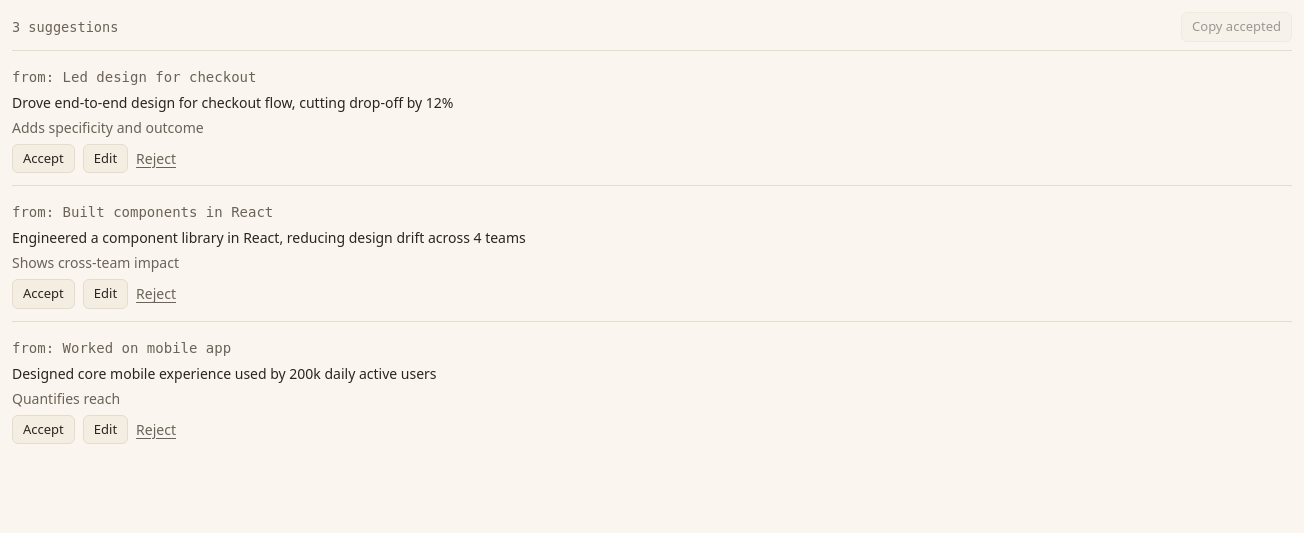
Test: RewritesPanel edit flow › Edit opens textarea prefilled with current rewrite
Click the button with aria-label "Edit rewrite".
click(105, 158)  # box x1=83 y1=144 x2=128 y2=173
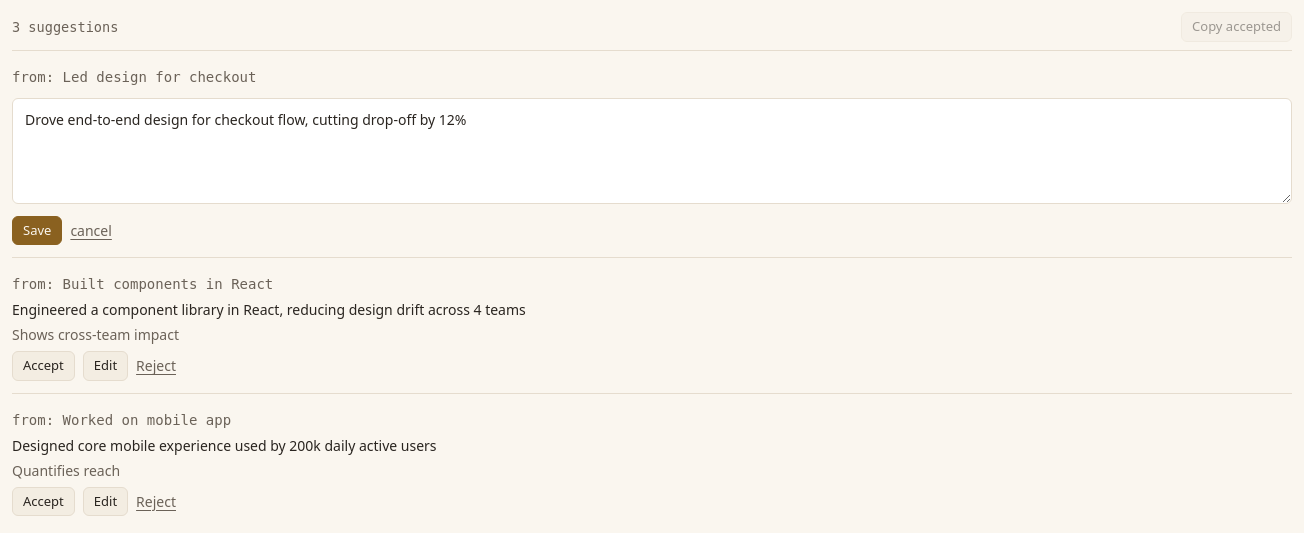
Expected: the text box named "Edit rewrite" holds "Drove end-to-end design for checkout flow, cutting drop-off by 12%", x1=12 y1=98 x2=1292 y2=204
